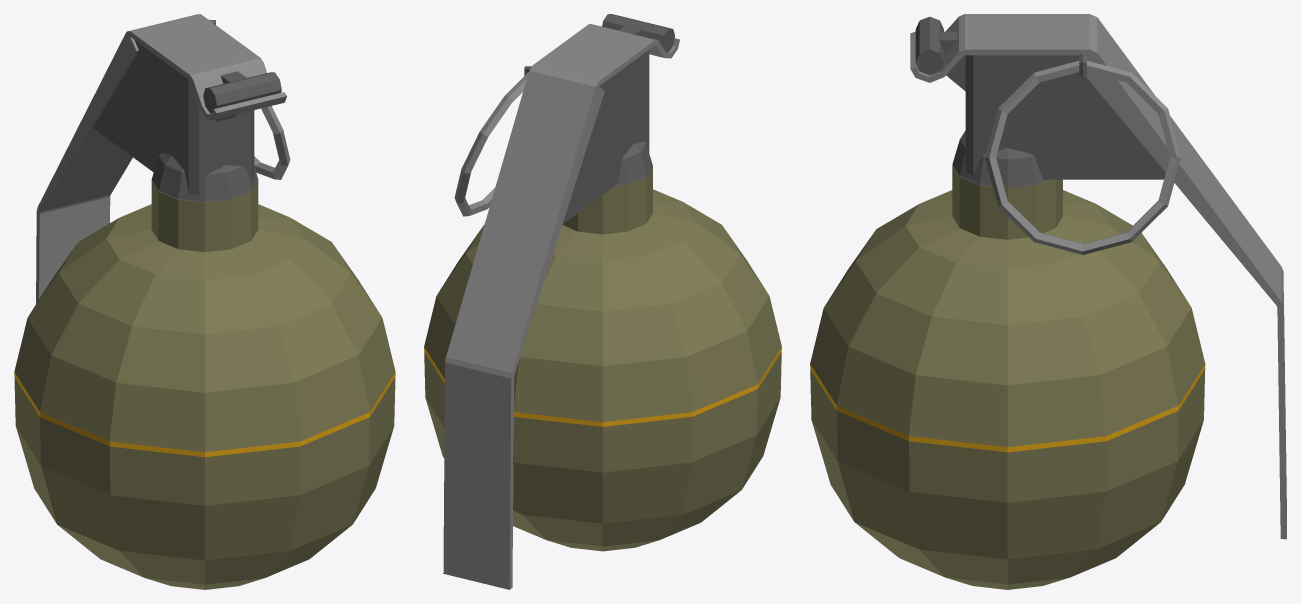
Rendered from gren_explosive.glb.
The picture shows the model from 3 angles, left to right: view 1: azimuth 30°, elevation 25°; view 2: azimuth 150°, elevation 25°; view 3: azimuth 270°, elevation 25°; orthographic projection. The views are drawn at different scales.
Visible parts, largest first — view 1: ExplosiveGrenade_0, Pin_0; view 2: ExplosiveGrenade_0, Pin_0; view 3: ExplosiveGrenade_0, Pin_0.
Boxes of the visible parts, left/top/right/bottom form: ExplosiveGrenade_0: left=14, top=14, right=395, bottom=589; Pin_0: left=254, top=106, right=290, bottom=179; ExplosiveGrenade_0: left=424, top=14, right=781, bottom=589; Pin_0: left=454, top=72, right=528, bottom=216; ExplosiveGrenade_0: left=810, top=14, right=1286, bottom=589; Pin_0: left=985, top=60, right=1181, bottom=254.
Size of the model in its own units: 0.0923 by 0.1388 by 0.1113.
Materials: 1 (1 with a texture image).
